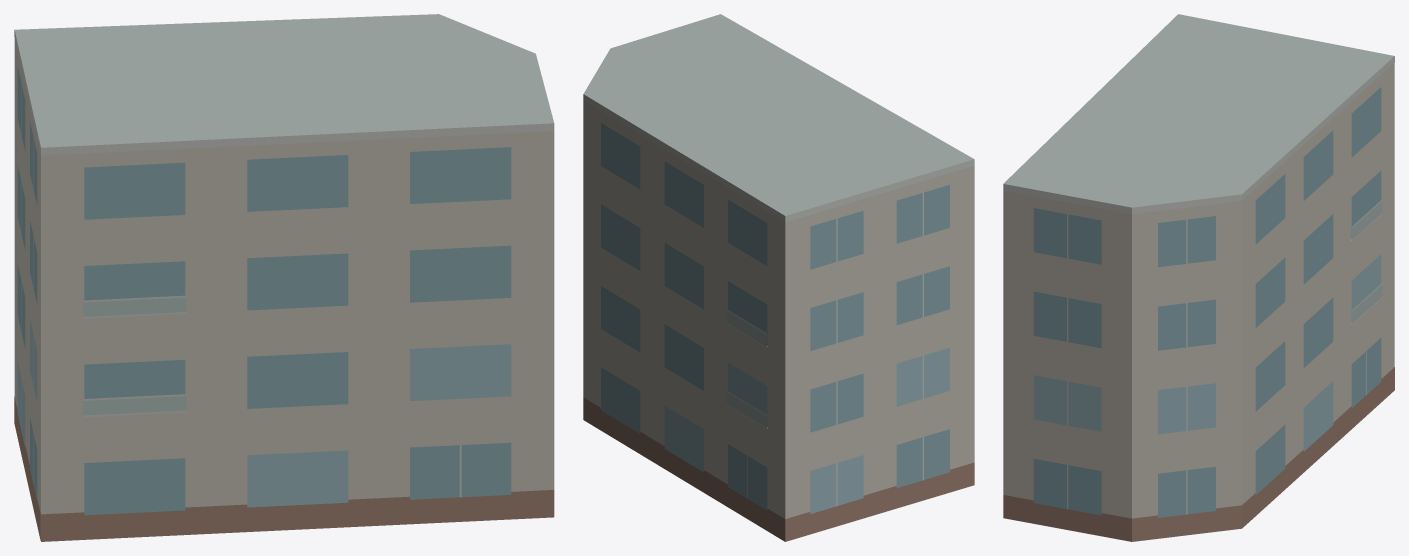
The model's file is survey-upis-32853528.glb.
3 views of the same model, side by side, from view 1: azimuth 30°, elevation 25°; view 2: azimuth 150°, elevation 25°; view 3: azimuth 270°, elevation 25° (orthographic). The views are drawn at different scales.
Visible parts, largest first — view 1: survey-upis-32853528.tmp; view 2: survey-upis-32853528.tmp; view 3: survey-upis-32853528.tmp.
Boxes of the visible parts, left/top/right/bottom form: survey-upis-32853528.tmp: left=14, top=14, right=554, bottom=541; survey-upis-32853528.tmp: left=583, top=14, right=974, bottom=541; survey-upis-32853528.tmp: left=1003, top=14, right=1394, bottom=541.
Bounding box in the file's own units: 15.41 × 12.4 × 13.17.
